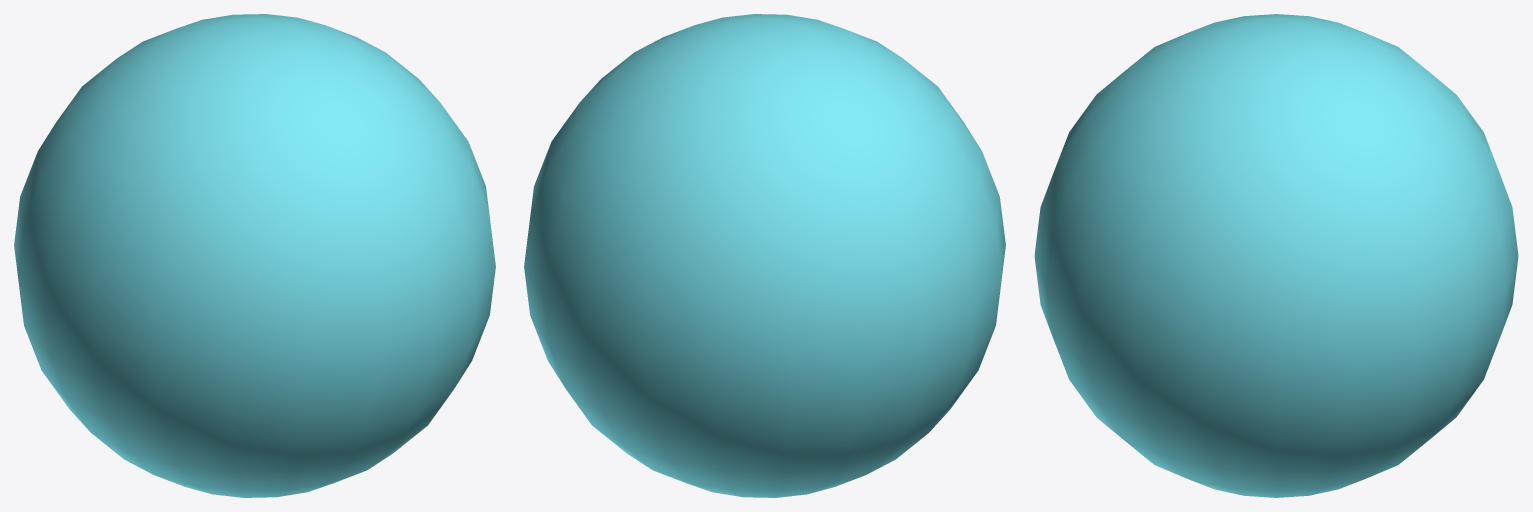
Rendered from gem.glb.
The picture shows the model from 3 angles, left to right: view 1: azimuth 30°, elevation 25°; view 2: azimuth 150°, elevation 25°; view 3: azimuth 270°, elevation 25°; orthographic projection.
Visible parts, largest first — view 1: primitive; view 2: primitive; view 3: primitive.
Boxes of the visible parts, x1,y1,x2,y2 form: primitive: (14,14,495,497); primitive: (524,14,1005,497); primitive: (1034,14,1518,497).
Size of the model in its own units: 0.12 by 0.12 by 0.12.
